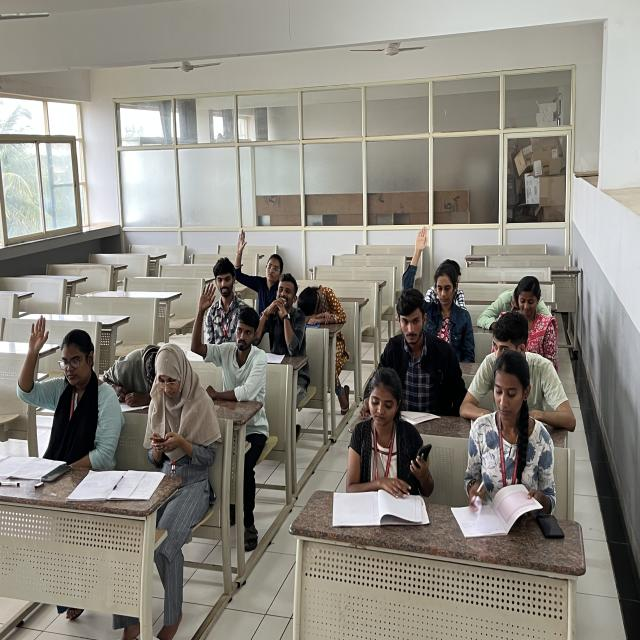Hand Rising: (6, 312, 131, 458), (179, 278, 275, 397), (392, 219, 460, 329), (232, 221, 293, 302)
Reading: (453, 364, 546, 530), (330, 383, 411, 526)
Sleeping: (99, 325, 190, 398), (299, 272, 361, 349), (477, 268, 552, 326)
Using Phone: (141, 355, 219, 466)
